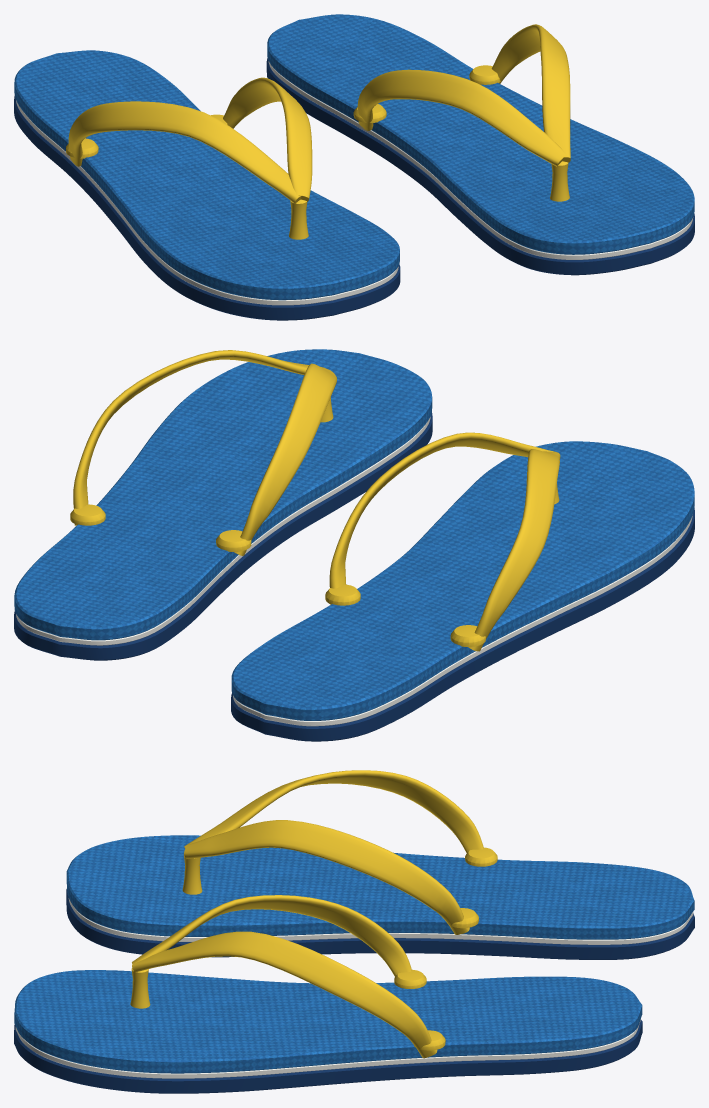
File: flip-flops.glb
The picture shows the model from 3 angles, top to bottom: view 1: azimuth 30°, elevation 25°; view 2: azimuth 150°, elevation 25°; view 3: azimuth 270°, elevation 25°; orthographic projection. The views are drawn at different scales.
Parts seen in each view (by area): view 1: Left_Shoe, Right_Shoe; view 2: Right_Shoe, Left_Shoe; view 3: Left_Shoe, Right_Shoe.
Part boxes in pixels (x1=…): Left_Shoe: x1=266, y1=14, x2=694, y2=275; Right_Shoe: x1=14, y1=50, x2=400, y2=320; Right_Shoe: x1=231, y1=432, x2=694, y2=741; Left_Shoe: x1=14, y1=349, x2=432, y2=660; Left_Shoe: x1=14, y1=895, x2=642, y2=1093; Right_Shoe: x1=66, y1=770, x2=694, y2=959.
Bounding box in the file's own units: 0.2458 × 0.066 × 0.3133.
Materials: 4 (1 with a texture image).
